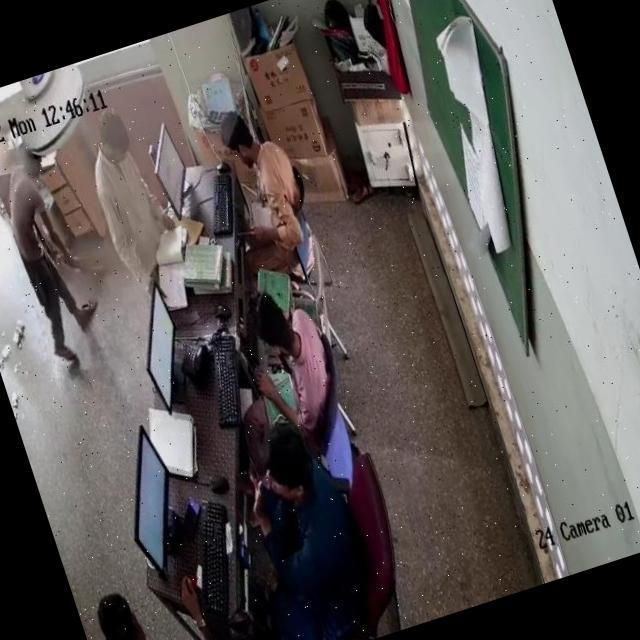person: (250, 404, 393, 640), (0, 147, 94, 353), (76, 106, 170, 281), (220, 103, 311, 264), (242, 281, 340, 415), (92, 585, 199, 640), (186, 590, 298, 640)
